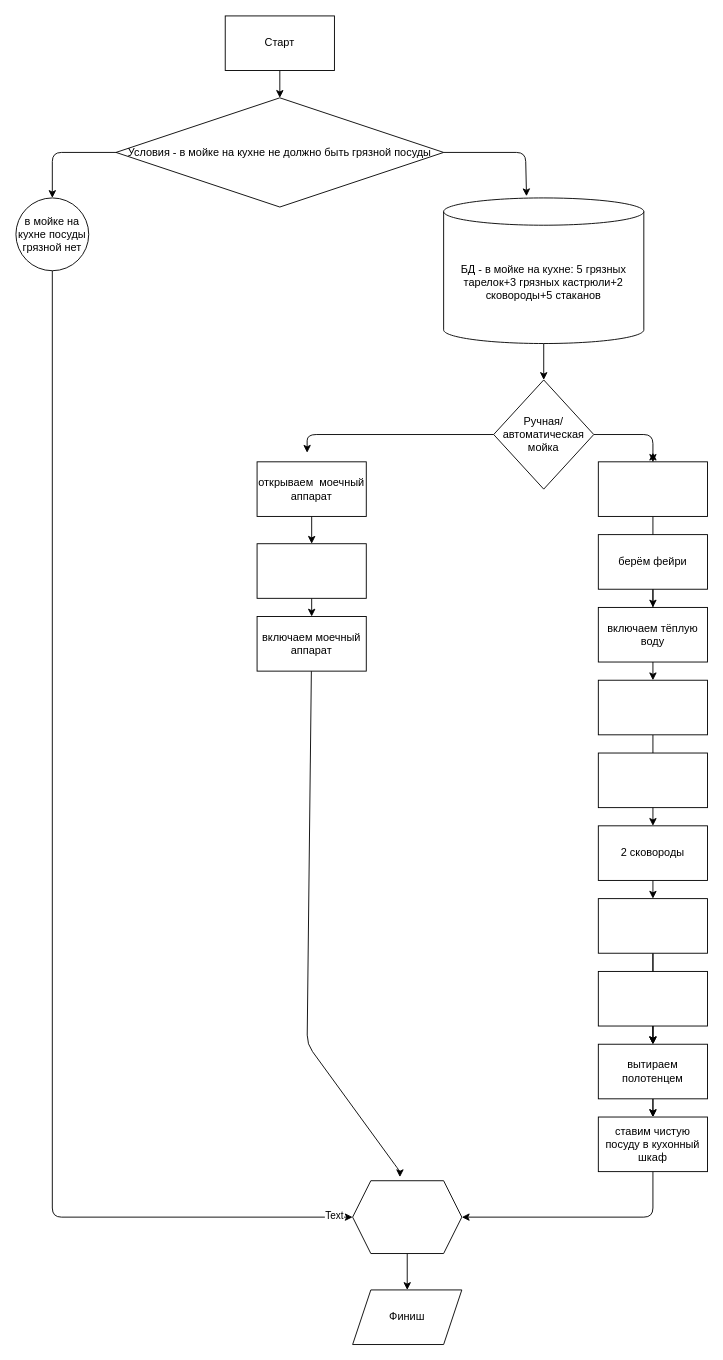
Some shapes in this 723 by 1360 pixel diagram are drawn without their labels. The centre of each missing label's shape, as x and y in pixels:
"5 стаканов" belongs at (x=652, y=925).
"берём губку" belongs at (x=652, y=488).
"вымотую посуду складываем на чистое полотенце" belongs at (x=652, y=998).
"моем 3 кастрюли" belongs at (x=652, y=780).
"моем 5 тарелок" belongs at (x=652, y=707).
"Посуда чистая" belongs at (x=407, y=1217).
"складываем всю грязную посуду а моечный аппарат" belongs at (x=311, y=570).
